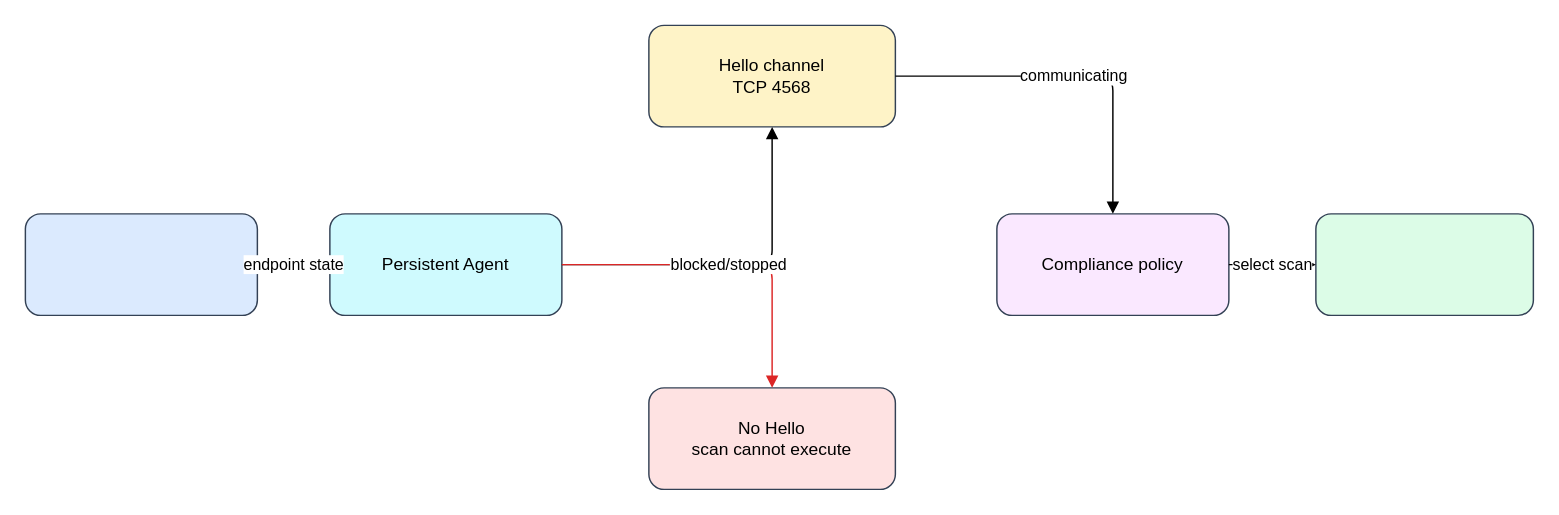
Image size: 1559x515. Some labels were removed from this diagram. The centre of each missing label's shape, as x and y in pixels:
"Host Health scan result / at risk" goes at point 1423,263.
"Registered host adapter online" goes at point 140,263.
